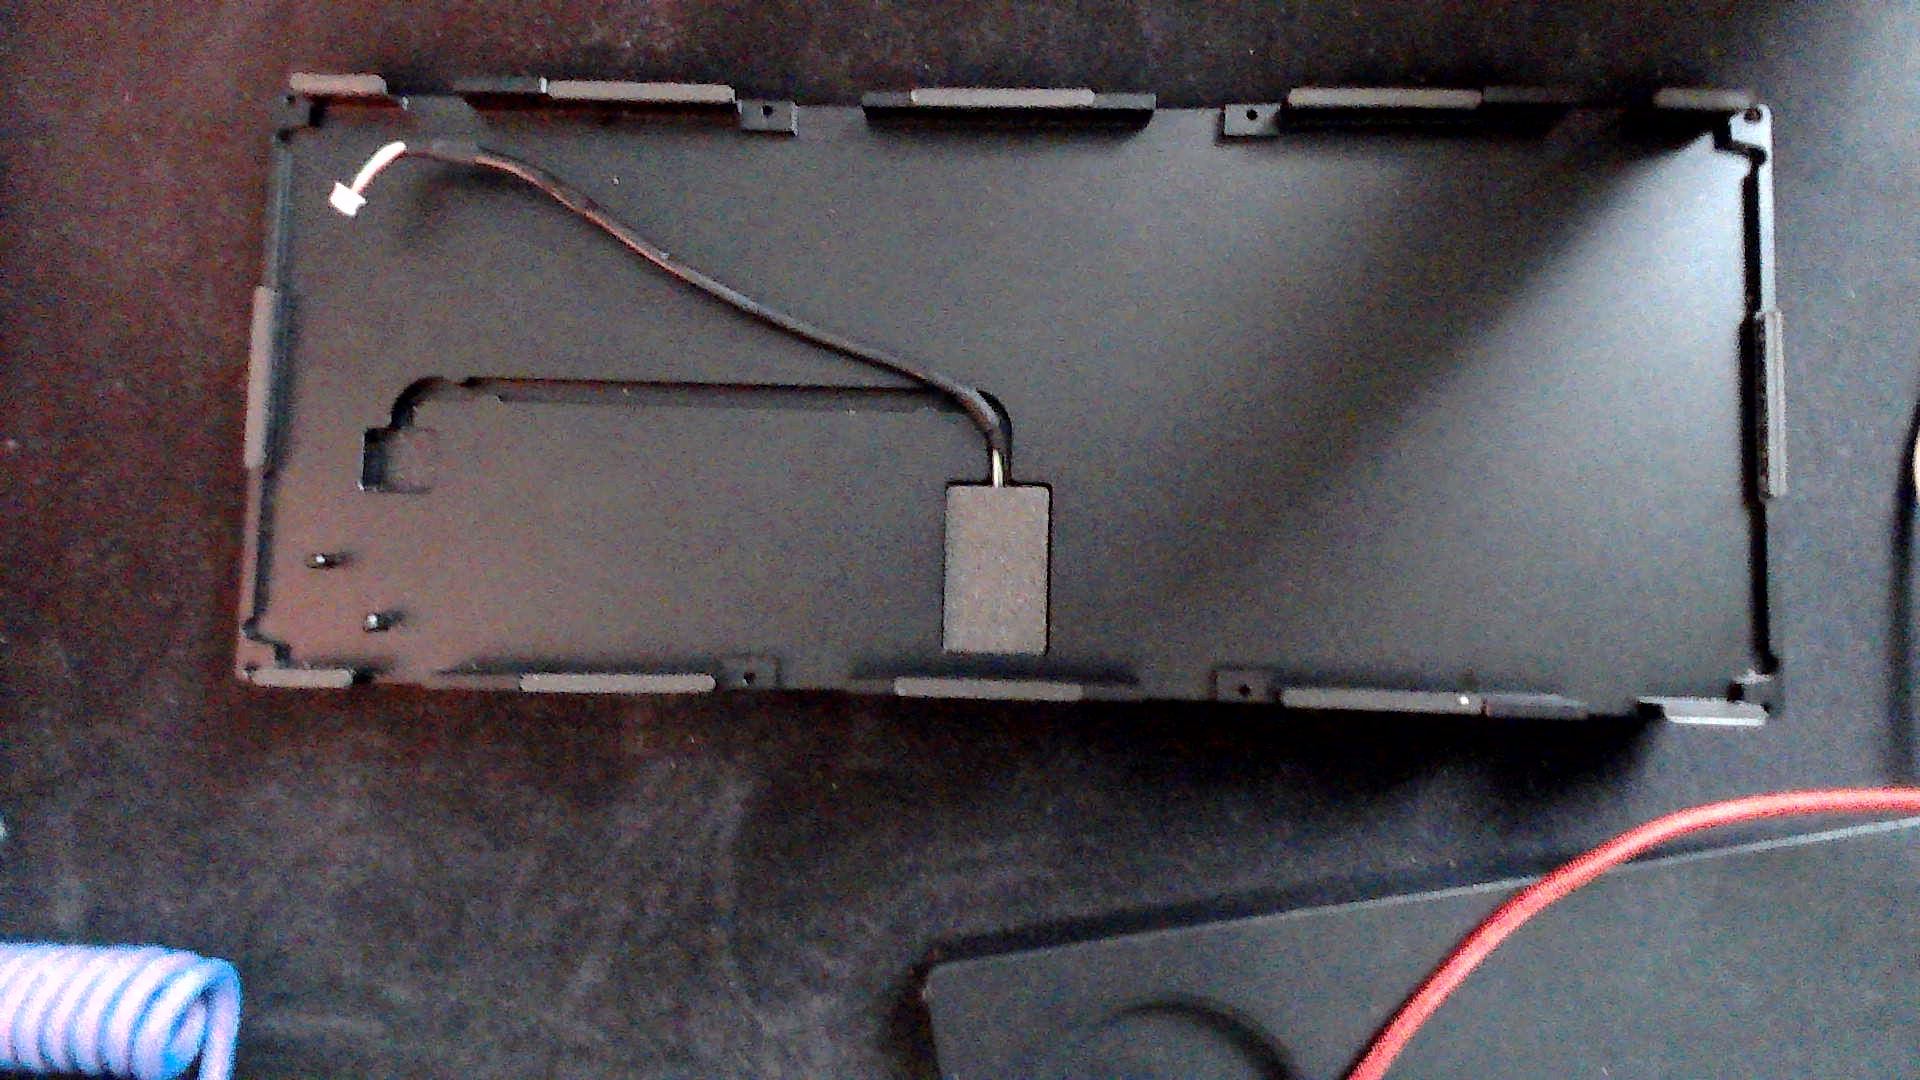case: (208, 34, 1811, 769)
